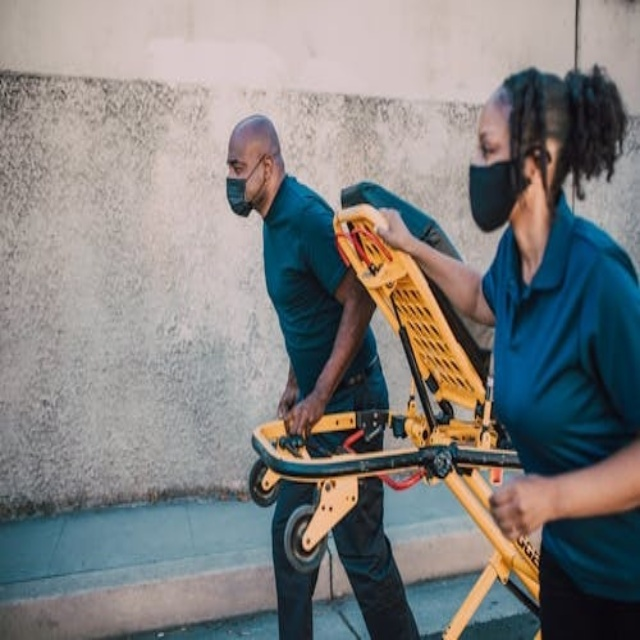Mascara: (469, 153, 529, 232), (227, 167, 260, 217)
Sin_gafas: (229, 159, 244, 174), (481, 143, 495, 158)
Sin_guantes: (487, 475, 543, 545), (367, 190, 417, 256), (284, 383, 327, 438)
